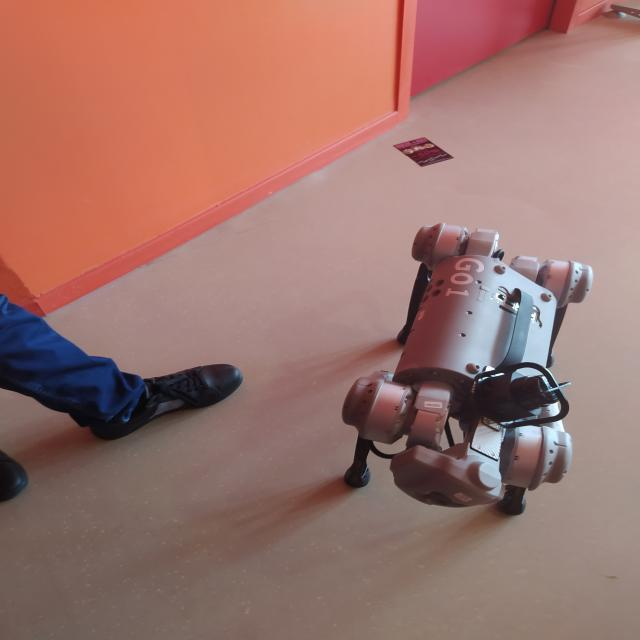unitree-go1-robot: (329, 214, 605, 541)
